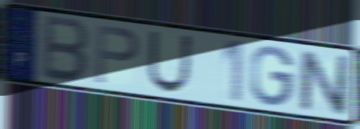1: (219, 37, 245, 105)
B: (39, 12, 91, 86)
G: (248, 44, 297, 108)
N: (297, 48, 350, 118)
P: (93, 22, 141, 86)
U: (146, 29, 194, 95)
